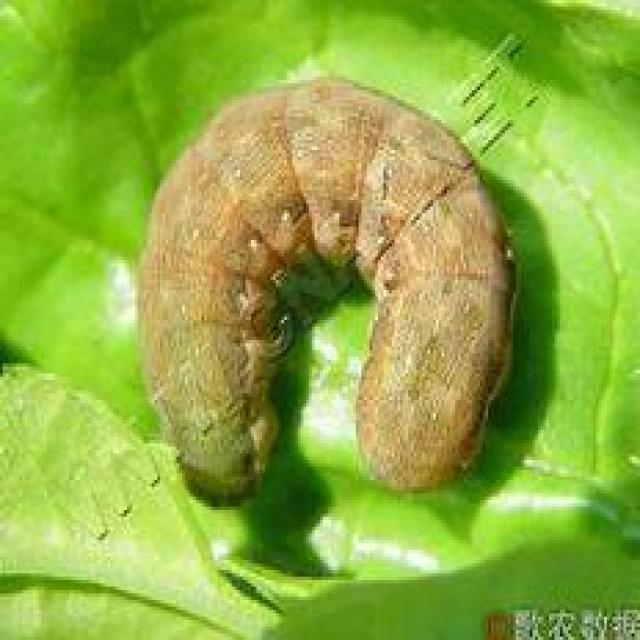BeetArmyWorm-Larva-: (127, 72, 531, 510)
